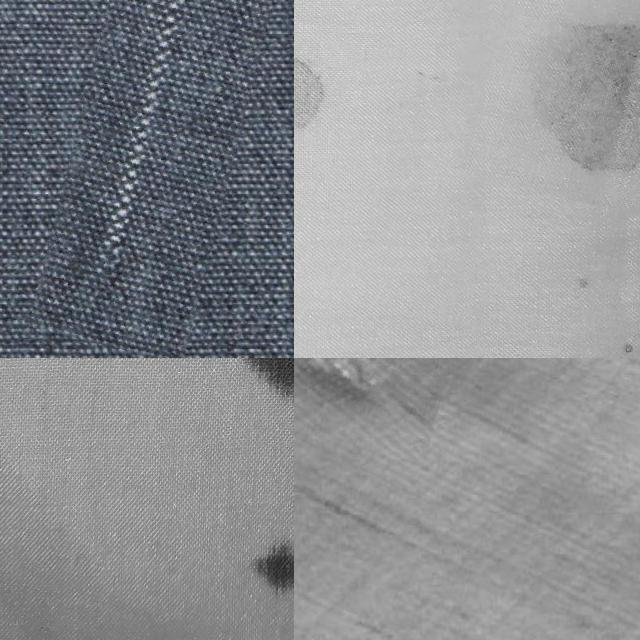Thread_other: (472, 0, 640, 216), (294, 8, 360, 176), (218, 498, 294, 624), (555, 254, 640, 358), (216, 358, 294, 427), (424, 0, 466, 14)
other: (294, 358, 463, 452)
stains: (54, 0, 268, 358)
